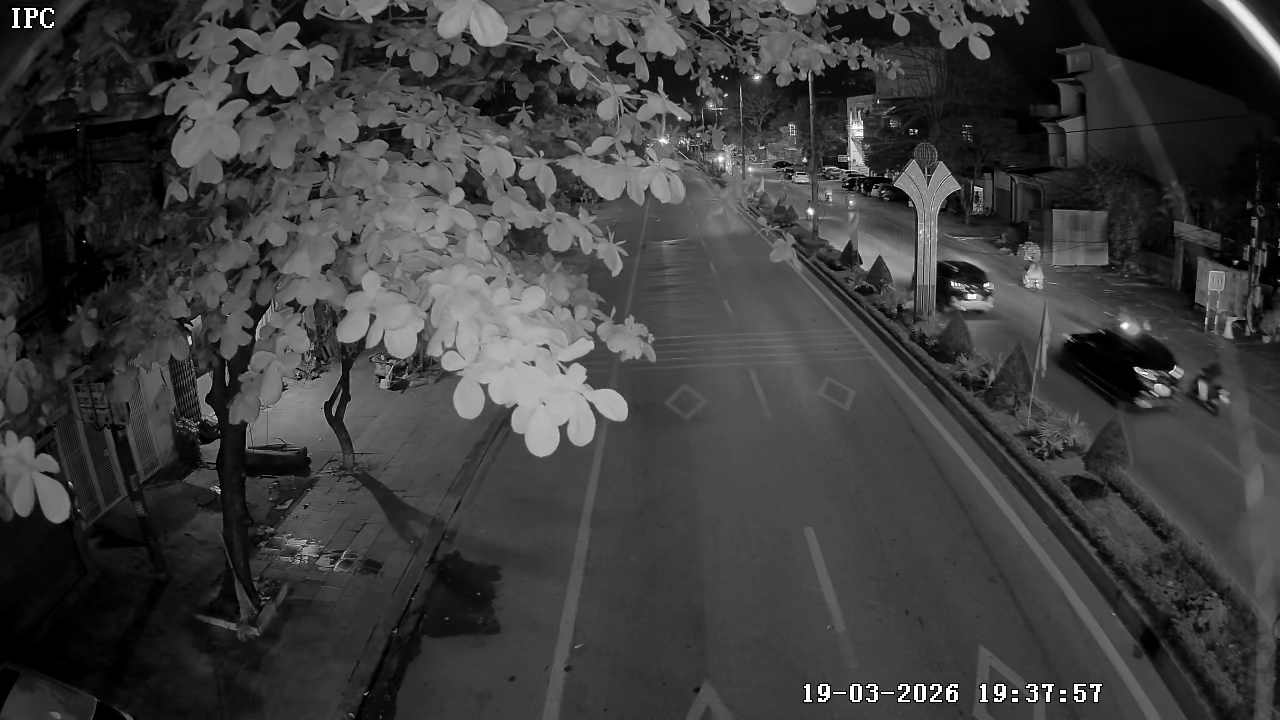car: (1057, 317, 1182, 412)
